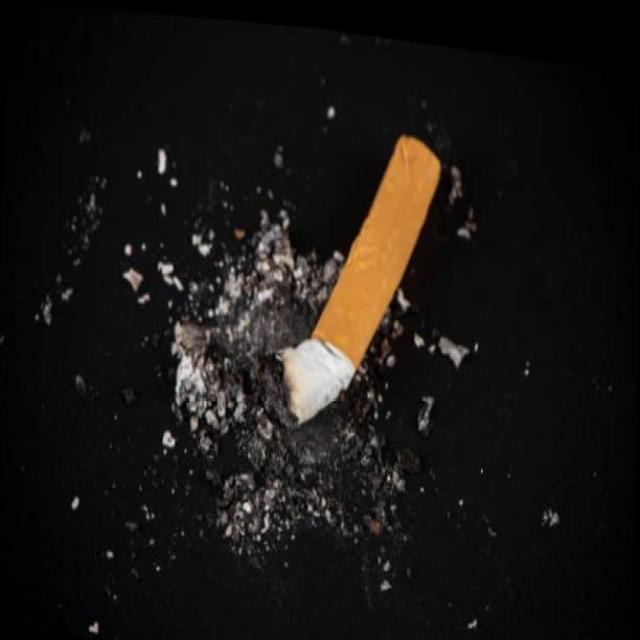cigarette: (268, 103, 446, 438)
